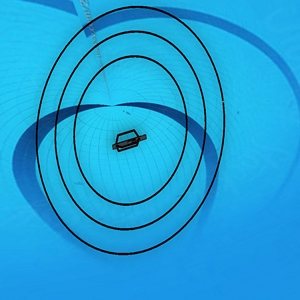circle: (31, 1, 232, 264)
submarine: (112, 131, 147, 152)
